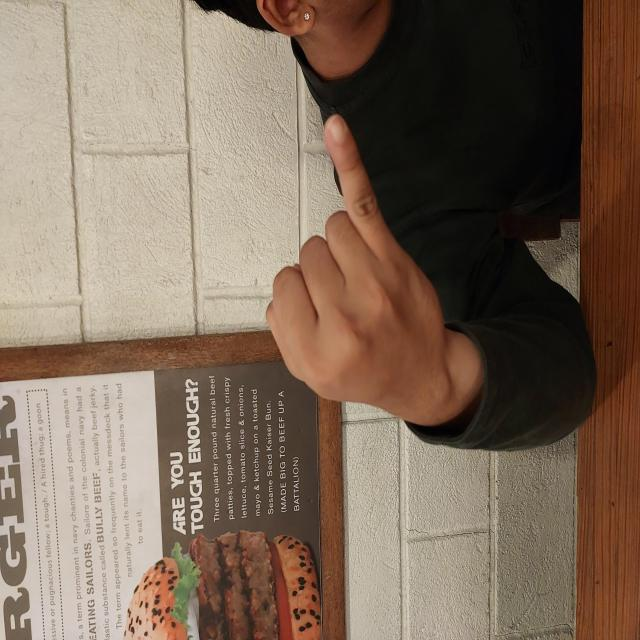J: (222, 264, 528, 452)
